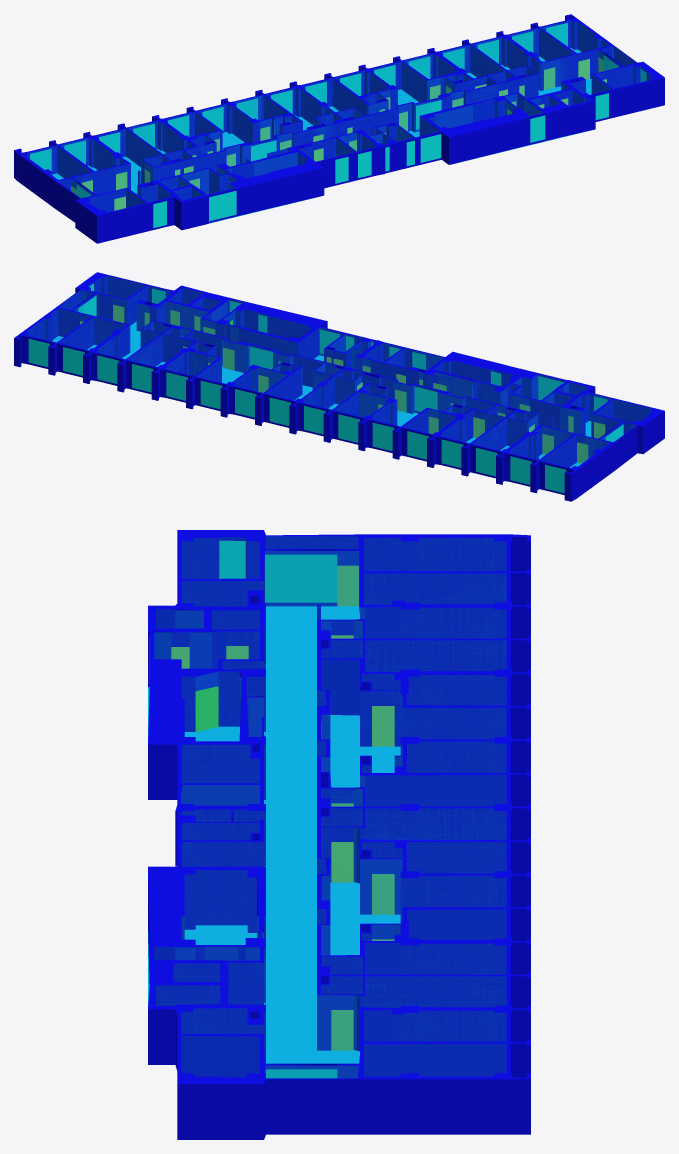
File: floor_11.gltf
3 renders of one model, top to bottom at view 1: azimuth 30°, elevation 25°; view 2: azimuth 150°, elevation 25°; view 3: azimuth 270°, elevation 25°, orthographic. The views are drawn at different scales.
Visible parts, largest first — view 1: group_solid_mesh, Room_11_31663_-6305, group_windows_mesh, Room_11_23809_-10720, Room_11_38636_-10716, group_door_mesh, group_ground_mesh, Room_11_42836_-1852, Room_11_1888_-12387, Room_11_60484_-12386, Room_11_13591_-12399, Room_11_56621_-12391 (+13 smaller); view 2: group_solid_mesh, Room_11_31663_-6305, group_windows_mesh, Room_11_23809_-10720, Room_11_38636_-10716, group_door_mesh, Room_11_42836_-1852, group_ground_mesh, Room_11_1888_-12387, Room_11_60484_-12386, Room_11_5776_-12391, Room_11_56621_-12391 (+12 smaller); view 3: group_solid_mesh, Room_11_31663_-6305, group_ground_mesh, Room_11_23809_-10720, Room_11_38636_-10716, group_door_mesh, group_windows_mesh, Room_11_42836_-1852, Room_11_1888_-12387, Room_11_60484_-12386, Room_11_13591_-12399, Room_11_5776_-12391 (+21 smaller).
Boxes of the visible parts, box(x1,y1,x2,y2) form: group_solid_mesh: box(14, 14, 664, 243); Room_11_31663_-6305: box(74, 37, 620, 202); group_windows_mesh: box(30, 23, 646, 227); Room_11_23809_-10720: box(185, 88, 332, 156); Room_11_38636_-10716: box(304, 62, 495, 114); group_door_mesh: box(71, 57, 606, 210); group_ground_mesh: box(52, 48, 591, 223); Room_11_42836_-1852: box(428, 100, 516, 128); Room_11_1888_-12387: box(26, 146, 90, 179); Room_11_60484_-12386: box(542, 20, 609, 52); Room_11_13591_-12399: box(128, 121, 193, 153); Room_11_56621_-12391: box(510, 28, 573, 61); group_solid_mesh: box(14, 272, 664, 501); Room_11_31663_-6305: box(73, 286, 620, 450); group_windows_mesh: box(28, 283, 623, 493); Room_11_23809_-10720: box(303, 375, 495, 425); Room_11_38636_-10716: box(185, 331, 331, 399); group_door_mesh: box(80, 304, 605, 463); Room_11_42836_-1852: box(223, 309, 311, 337); group_ground_mesh: box(52, 321, 591, 467); Room_11_1888_-12387: box(541, 435, 609, 467); Room_11_60484_-12386: box(27, 309, 90, 341); Room_11_5776_-12391: box(509, 426, 573, 459); Room_11_56621_-12391: box(59, 317, 125, 349); group_solid_mesh: box(148, 530, 530, 1139); Room_11_31663_-6305: box(182, 551, 506, 1063); group_ground_mesh: box(148, 606, 400, 1063); Room_11_23809_-10720: box(321, 660, 506, 805); Room_11_38636_-10716: box(321, 808, 506, 955); group_door_mesh: box(171, 565, 394, 1050); group_windows_mesh: box(149, 540, 337, 1078); Room_11_42836_-1852: box(182, 870, 258, 944); Room_11_1888_-12387: box(364, 538, 506, 570); Room_11_60484_-12386: box(364, 1044, 505, 1075); Room_11_13591_-12399: box(365, 640, 506, 671); Room_11_5776_-12391: box(364, 573, 506, 604).
Bounding box in the file's own units: 64349 × 3000 × 18799.
